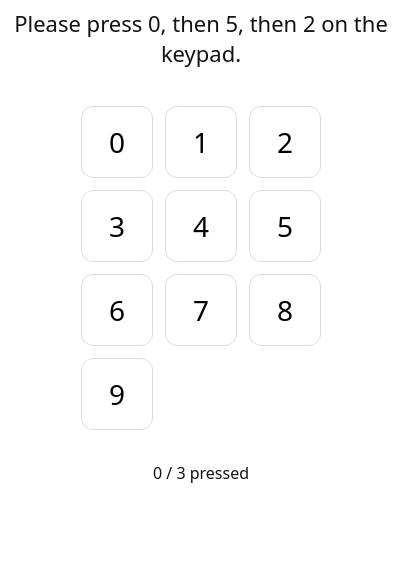
KeypadChallenge › shows an error and resets after a wrong sequence
The width and height of the screenshot is (404, 571).
Click the button "1".
click(201, 142)  # box 165,106 -> 237,178
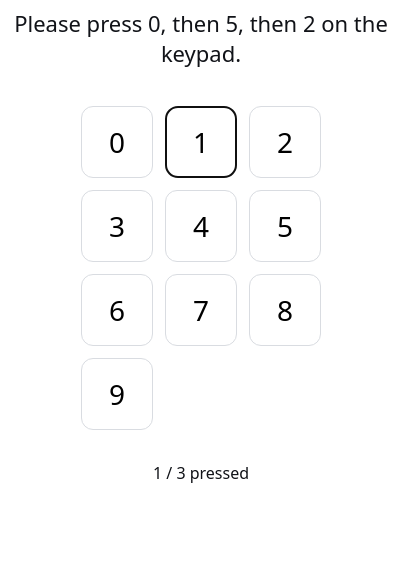
Click the button "5".
click(285, 226)  # box 249,190 -> 321,262
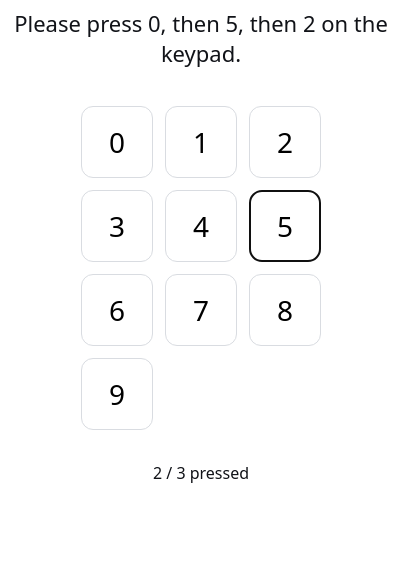
Click the button "2".
click(285, 142)  # box 249,106 -> 321,178
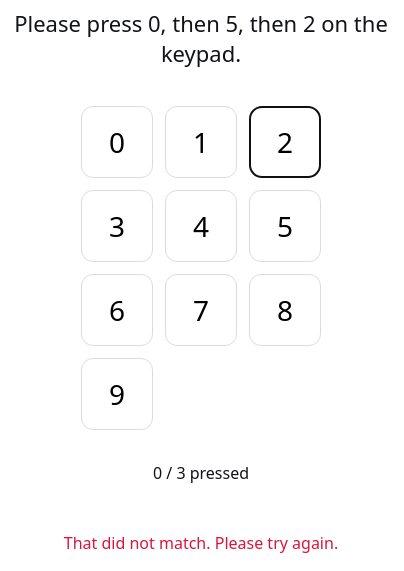
Result: the message shows "did not match" at 64,532 -> 338,554
